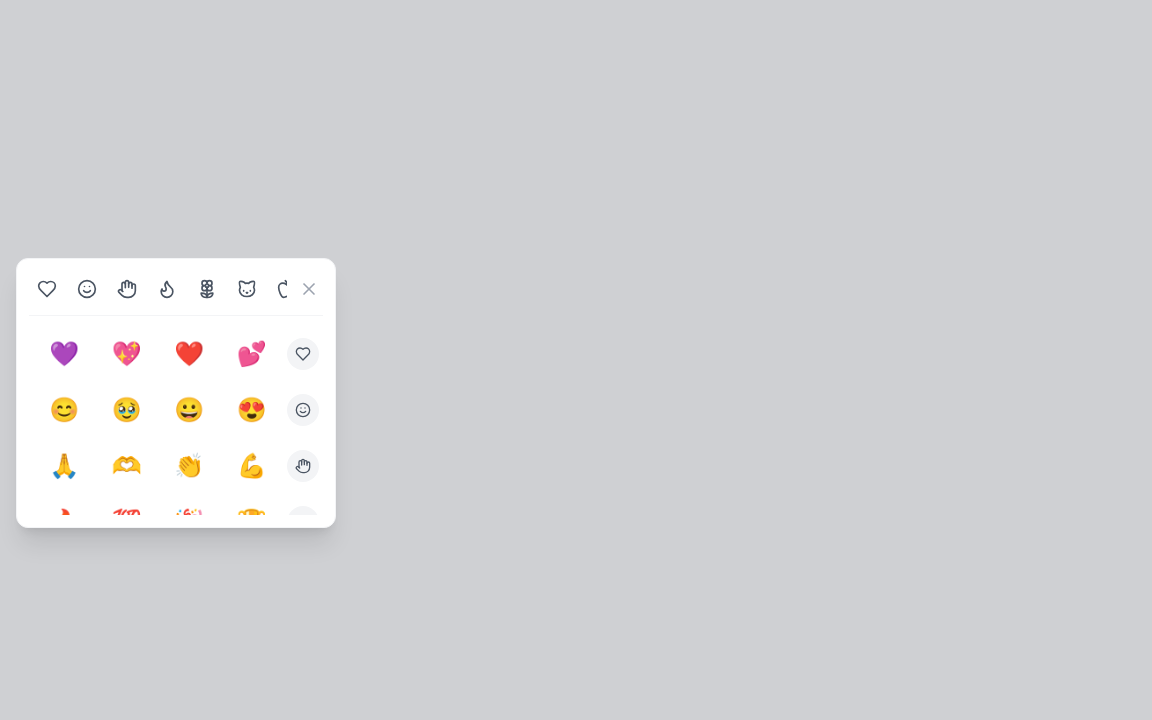
Scenario: EmojiPicker › expands to show full grid when clicking + button
Click the button named "Show all Heart emojis". click: [303, 354]
box: [287,338,319,370]
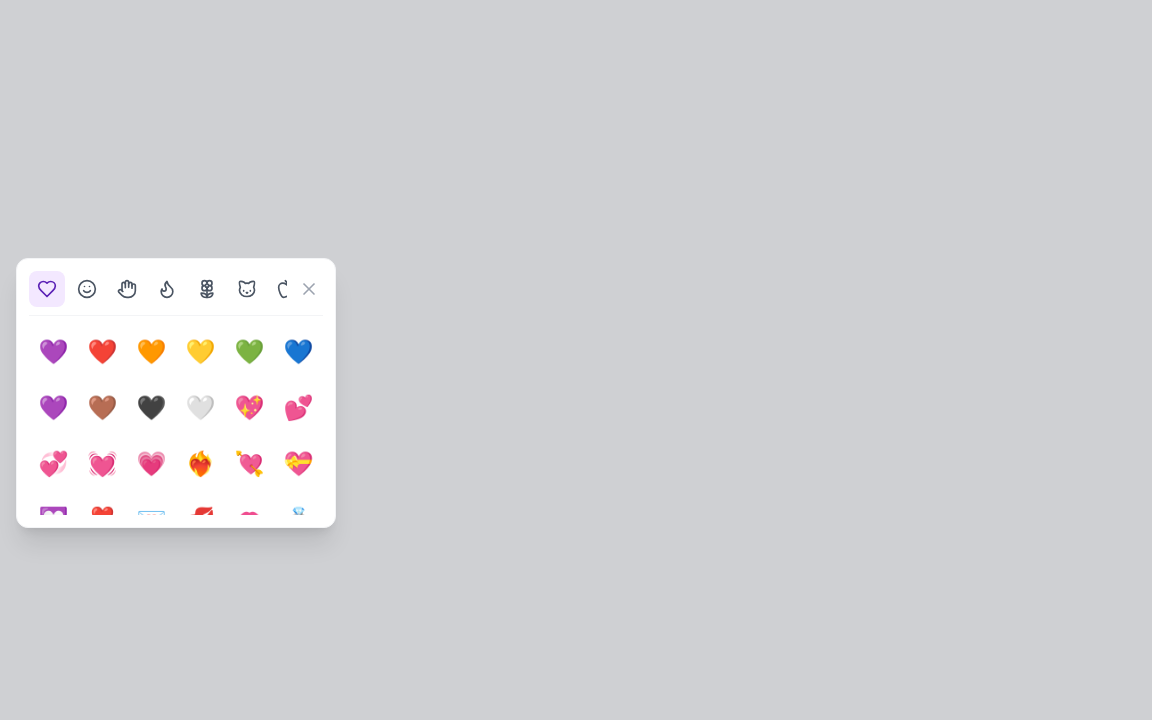
Result: the table is shown at [33,328,319,515]
